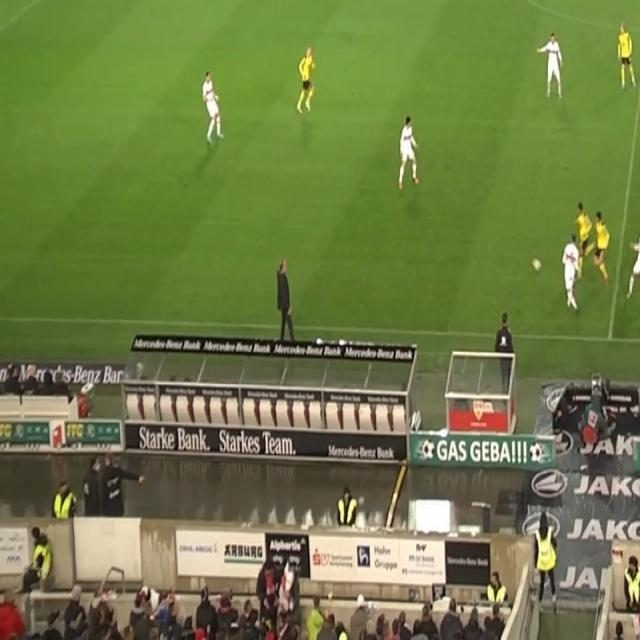ball: (531, 257, 543, 272)
